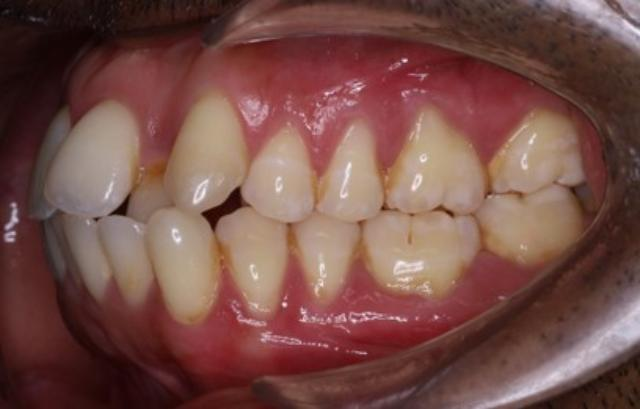canine class II 1/2: (146, 86, 290, 334)
molar class I: (359, 98, 491, 304)
